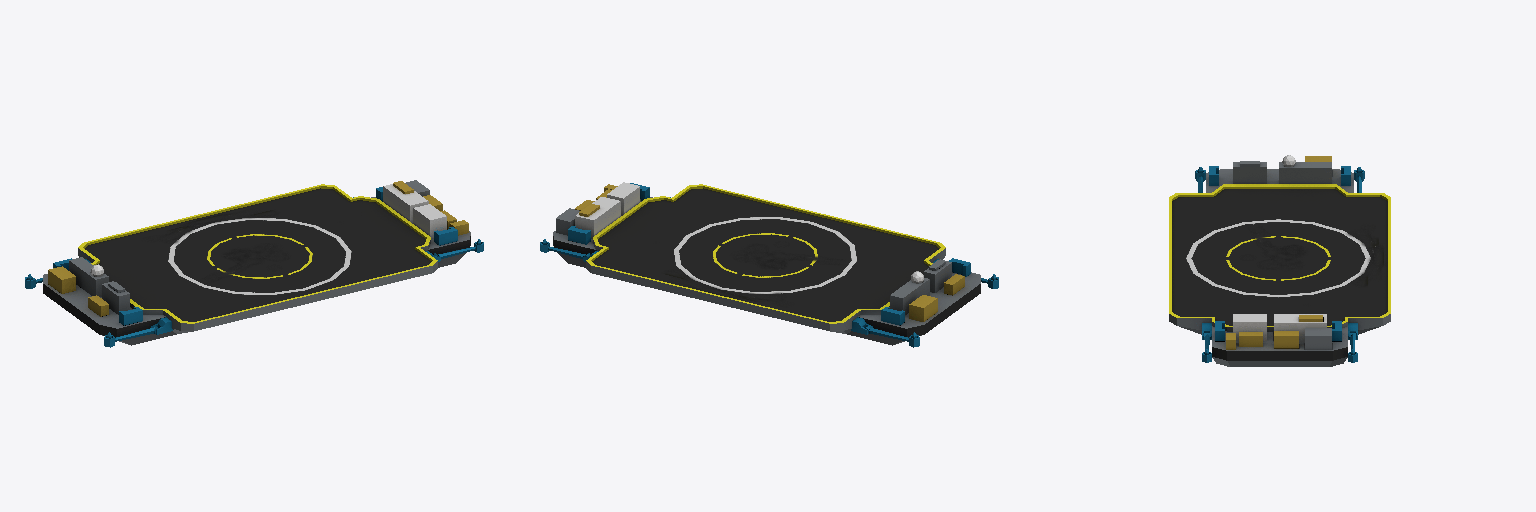
3 renders of one model, left to right at view 1: azimuth 30°, elevation 25°; view 2: azimuth 150°, elevation 25°; view 3: azimuth 270°, elevation 25°, orthographic.
Parts seen in each view (by area): view 1: Barge_Plane.003; view 2: Barge_Plane.003; view 3: Barge_Plane.003.
Part boxes in pixels (x1,y1,x2,y2): Barge_Plane.003: (25,180,483,347); Barge_Plane.003: (540,182,998,347); Barge_Plane.003: (1169,155,1390,366).
Size of the model in its own units: 12.34 by 1.56 by 6.18.
1 materials, 1 textured.